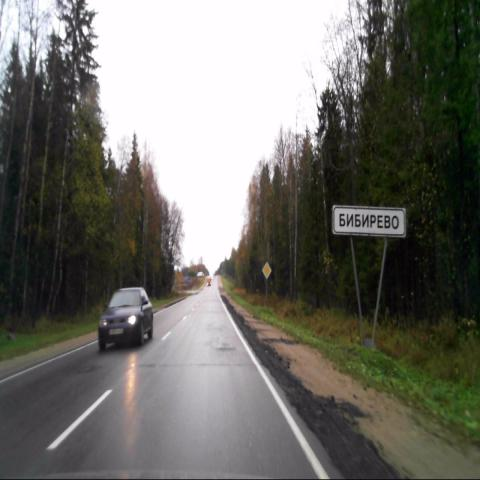2_1: (261, 261, 272, 279)
